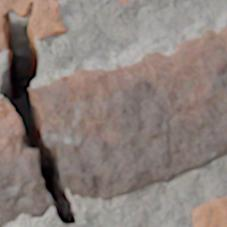brick: (191, 197, 226, 226), (115, 0, 129, 5)
broken_brick: (29, 28, 226, 200), (0, 99, 53, 226), (0, 0, 67, 53)
crack: (0, 2, 78, 225)
